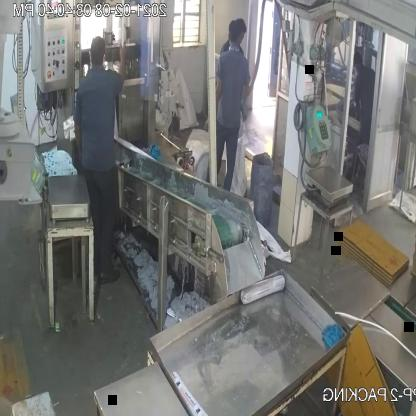no_glove: (113, 39, 128, 88)
